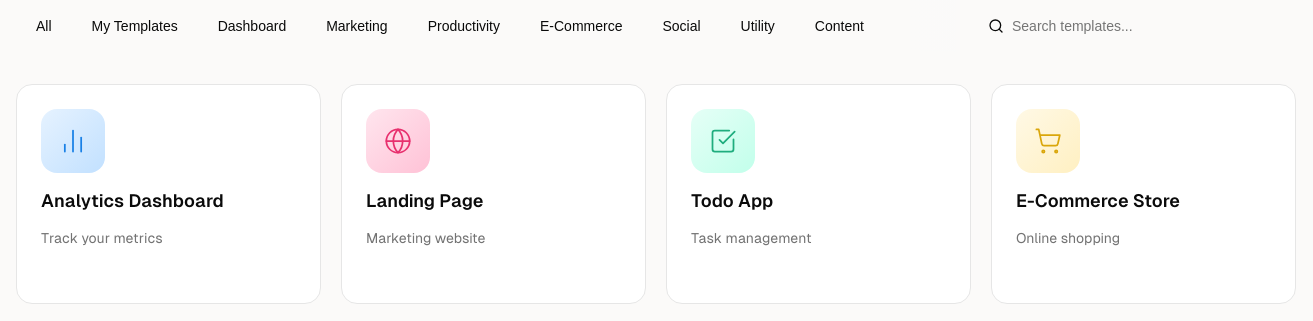
it: TemplateGrid › should show all templates when "All" category is selected
The image size is (1313, 321).
First filter by a category
What coordinates should you click on to do the following:
click the button with aria-label "Filter by Dashboard category"
I would click on:
 (252, 26)
Its box is [202,4,302,48].
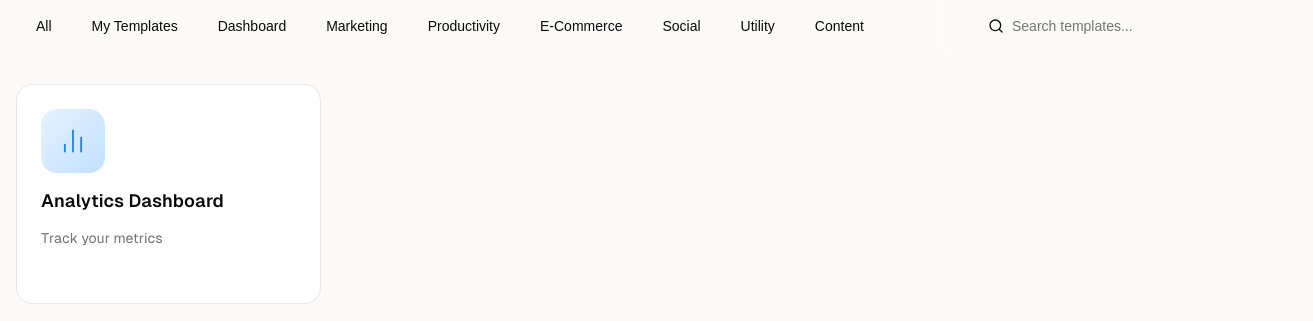
Then click "All"
What coordinates should you click on to do the following:
click the button with aria-label "Filter by All category"
I would click on:
 (44, 26)
Its box is [20,4,68,48].
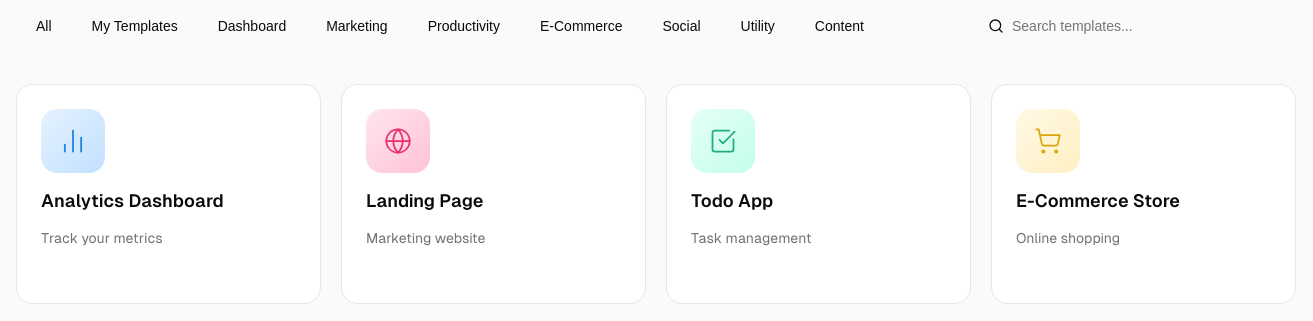
Now the heading "Landing Page" is shown, box [366,190,484,211]
Now the heading "Todo App" is shown, box [691,190,773,211]
Now the heading "E-Commerce Store" is shown, box [1016,190,1180,211]
